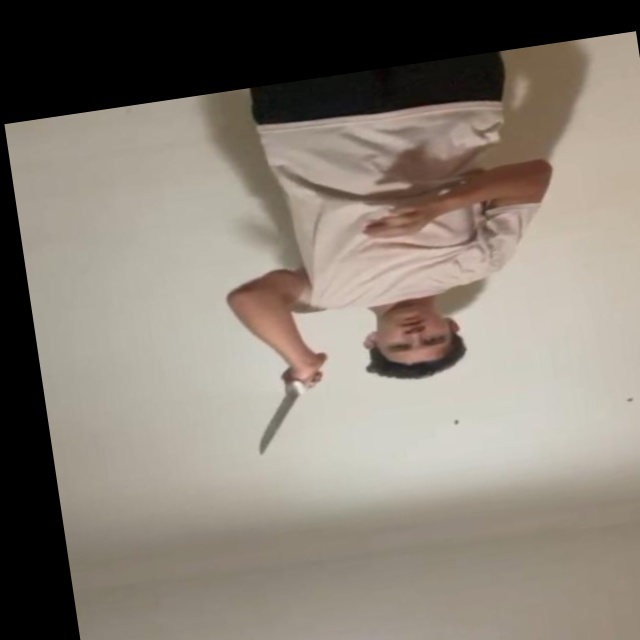Sharp-Object: (250, 384, 306, 456)
